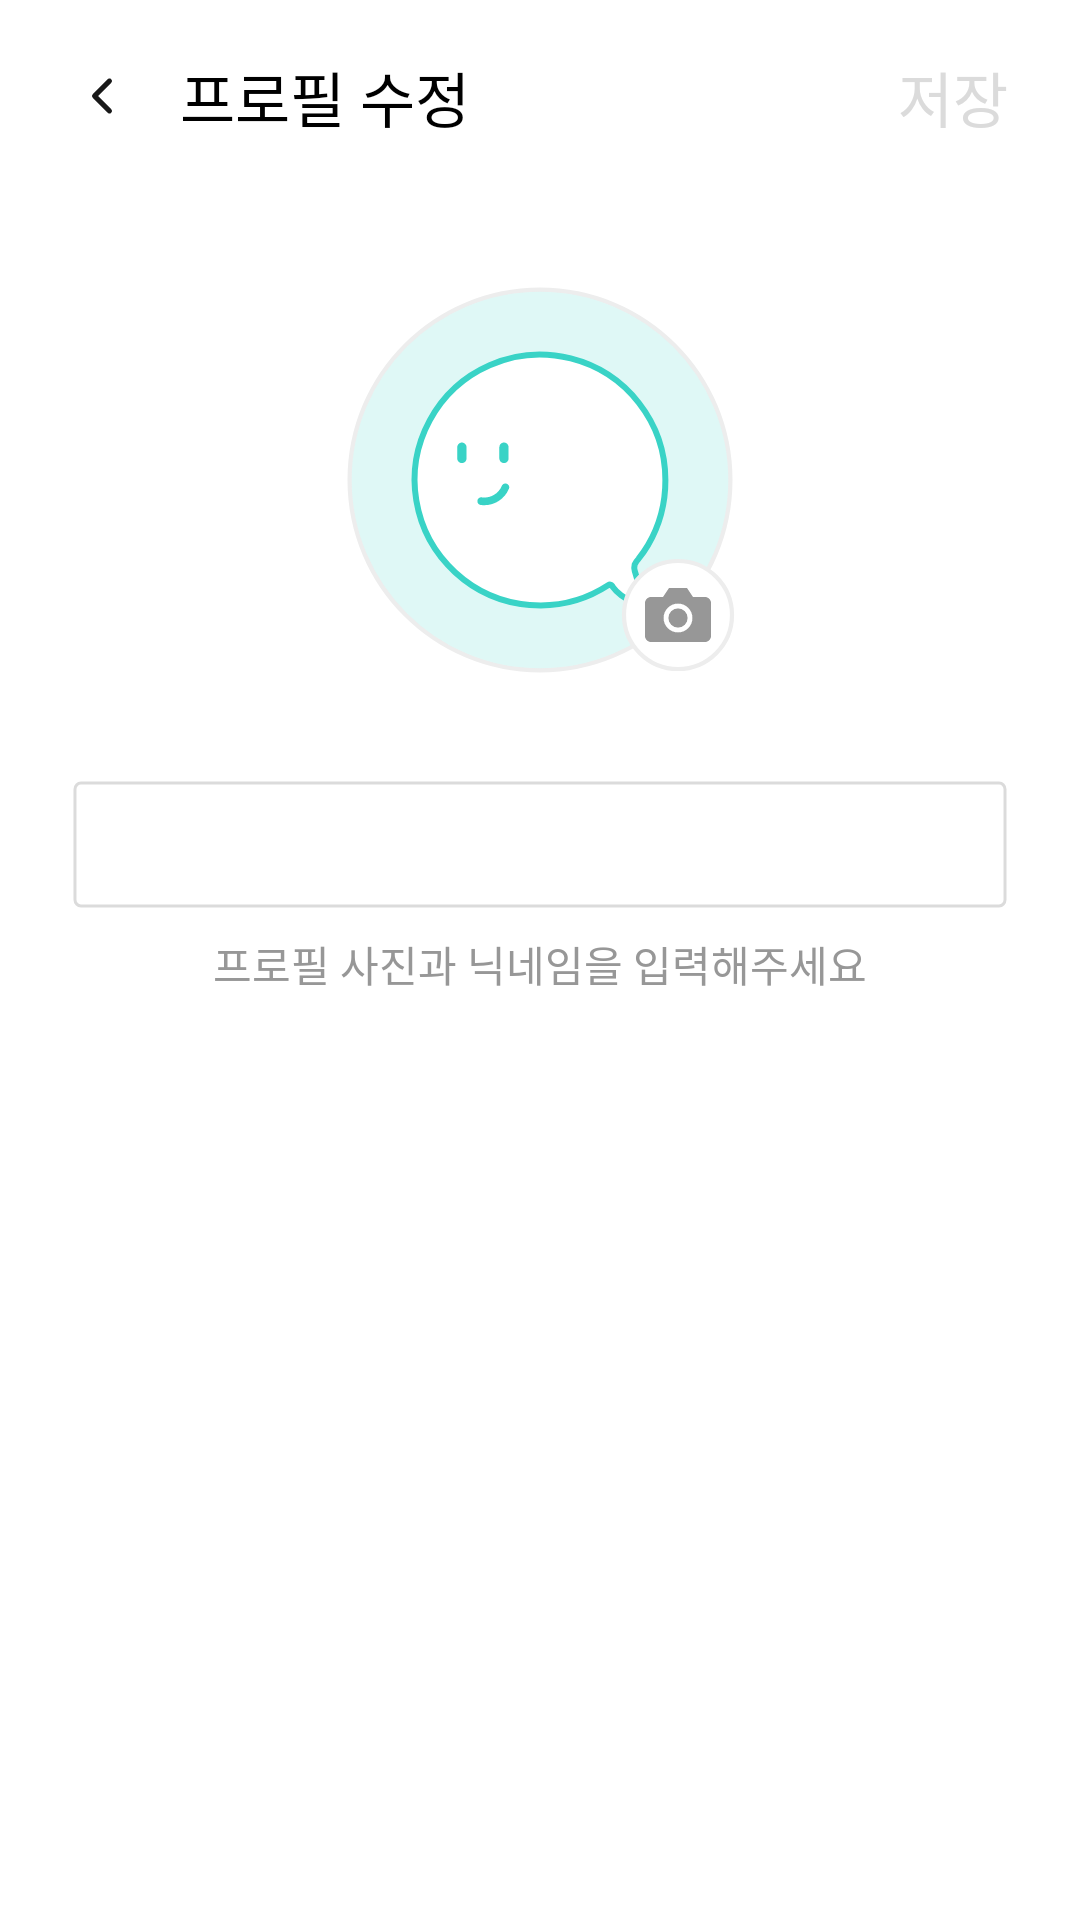

Named icons in this screenshot (1080px x 1920px) and their bounding boxes, [x1,y1,x2,y2]:
back: [92,78,112,114]
